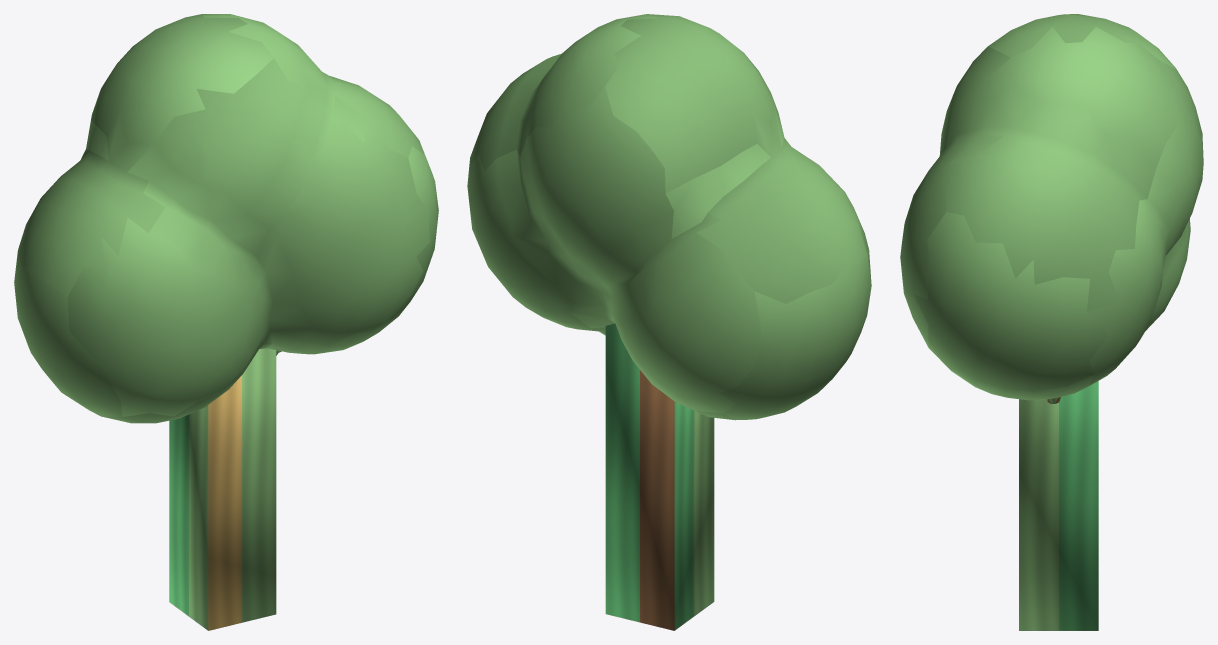
Rendered from tree_lush_b.glb.
The picture shows the model from 3 angles, left to right: view 1: azimuth 30°, elevation 25°; view 2: azimuth 150°, elevation 25°; view 3: azimuth 270°, elevation 25°; orthographic projection.
Parts seen in each view (by area): view 1: lod0, col; view 2: lod0, col; view 3: lod0, col.
Part boxes in pixels (x1,y1,x2,y2): lod0: [14, 14, 438, 423]; col: [169, 348, 276, 630]; lod0: [467, 14, 871, 420]; col: [605, 323, 714, 630]; lod0: [900, 14, 1203, 404]; col: [1019, 381, 1098, 630].
Size of what is drawn, in the model's own units: 3.32 by 4.88 by 2.28.
Materials: 2 (2 with a texture image).
